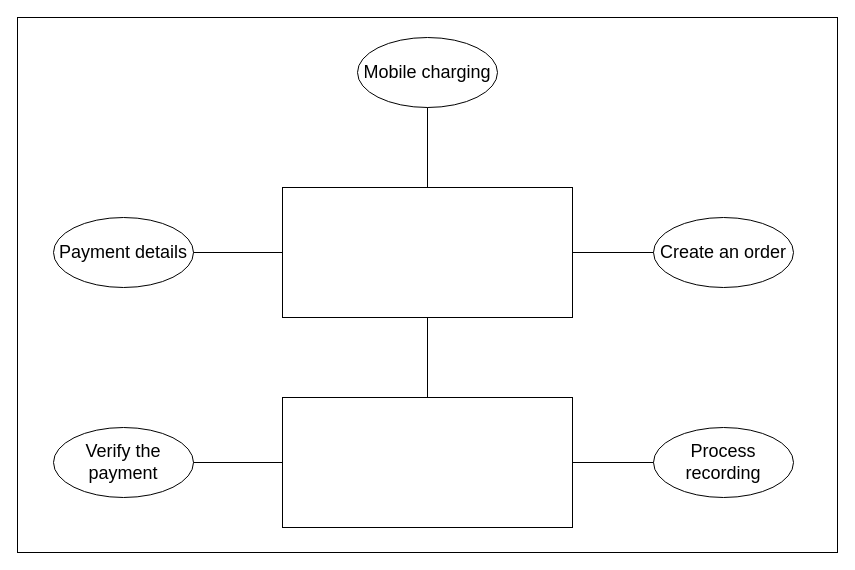
Image size: 855x570. Some labels were removed from this diagram. The box of each missing label's shape, as (x1, y1, x2, y2) in pixels:
«System» Blockchain: (282, 396, 572, 528)
«System» Online recharge: (282, 186, 572, 318)
